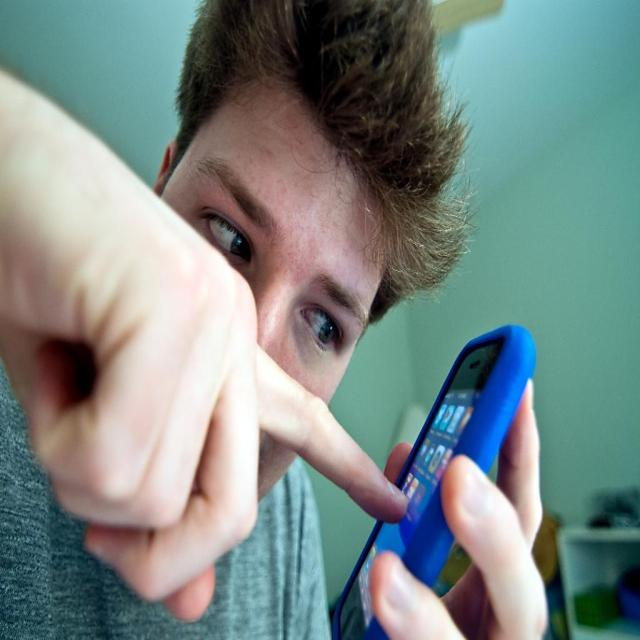Mobile-phone: (336, 322, 538, 639)
